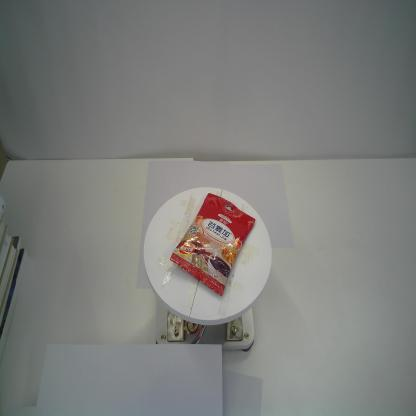Instant Drink: (167, 191, 256, 298)
